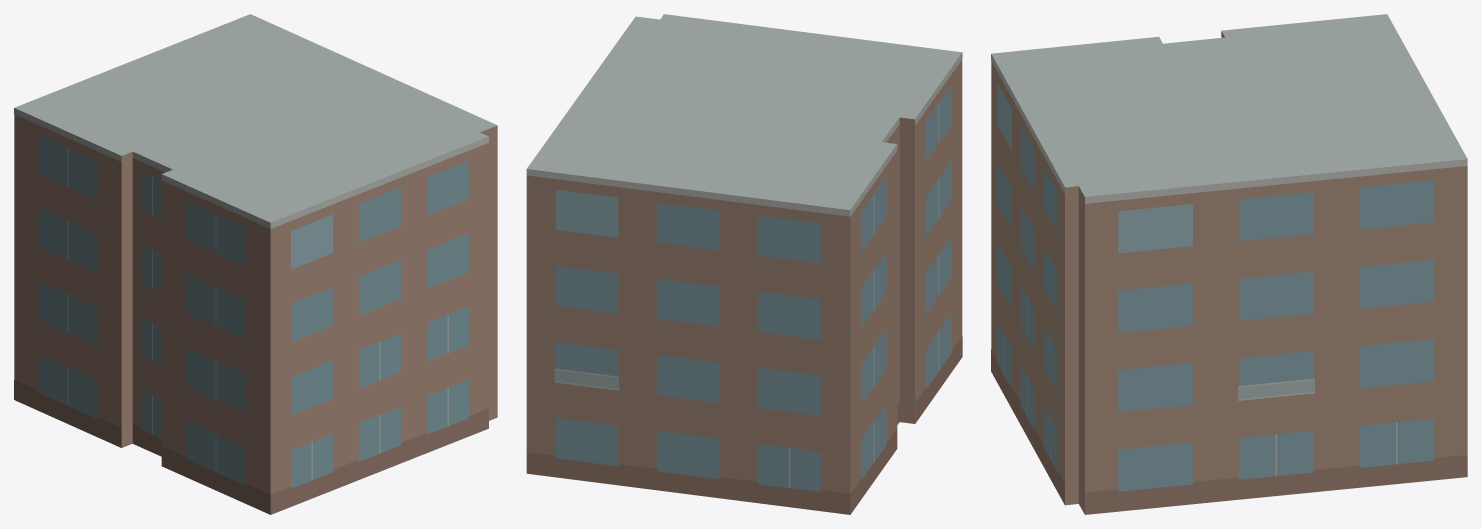
Rendered from survey-upis-32685138.glb.
The picture shows the model from 3 angles, left to right: view 1: azimuth 30°, elevation 25°; view 2: azimuth 150°, elevation 25°; view 3: azimuth 270°, elevation 25°; orthographic projection. The views are drawn at different scales.
Visible parts, largest first — view 1: survey-upis-32685138.tmp; view 2: survey-upis-32685138.tmp; view 3: survey-upis-32685138.tmp.
Part boxes in pixels (<box>): survey-upis-32685138.tmp: <box>14,14,497,514</box>; survey-upis-32685138.tmp: <box>526,14,962,514</box>; survey-upis-32685138.tmp: <box>991,14,1467,514</box>.
Bounding box in the file's own units: 14.15 × 11.45 × 15.57.
